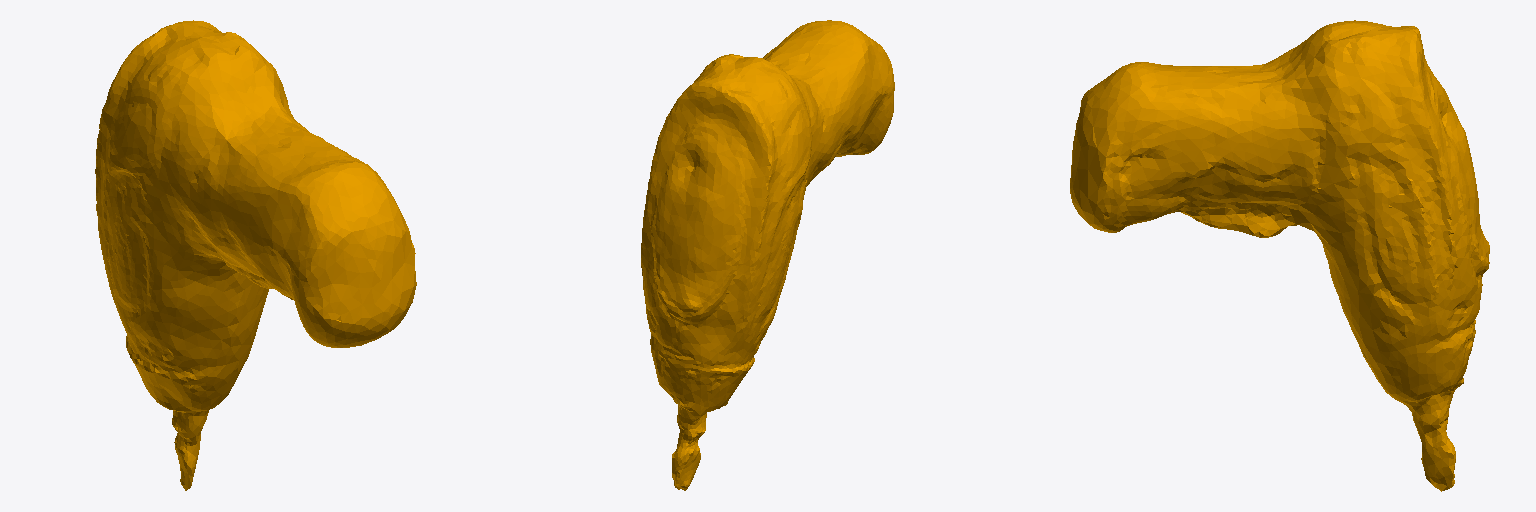
URDF robot description (drill_blue):
<?xml version="1.0"?>
<!-- Onboarded any2any scan (0818_task2_traj_tracking/assets/scene6/textured.obj). Canonical frame: z-up
     (scan frame kept as-is).
     Density: uniform-sampled per training variant (simtoolreal primitive
     convention, LOW range 300-600 kg/m^3); the value below is the base. -->
<robot name="drill_blue">
  <link name="drill_blue">
    <visual><origin xyz="0 0 0" rpy="0 0 0"/><geometry><mesh filename="drill_blue.obj" scale="1 1 1"/></geometry></visual>
    <collision><origin xyz="0 0 0" rpy="0 0 0"/><geometry><mesh filename="drill_blue.obj" scale="1 1 1"/></geometry></collision>
    <inertial><density value="450.0"/></inertial>
  </link>
</robot>

--- What the picture shows (computed from the rendered views, not written in the file) ---
The picture shows the robot from 3 angles, left to right: view 1: azimuth 30°, elevation 25°; view 2: azimuth 150°, elevation 25°; view 3: azimuth 270°, elevation 25°; orthographic projection.
Robot: drill_blue — 1 links, 0 joints (none); root link drill_blue; default pose: all joints at 0.
Visible links, largest first — view 1: drill_blue; view 2: drill_blue; view 3: drill_blue.
Link boxes in pixels (x1,y1,x2,y2): drill_blue: [95, 20, 416, 490]; drill_blue: [641, 20, 894, 490]; drill_blue: [1070, 20, 1489, 491].
Bounding box of the posed robot: 0.0522 × 0.1278 × 0.1525 m (x, y, z).
Meshes: 1 distinct files referenced, 1 mesh visuals loaded (1 OBJ).
